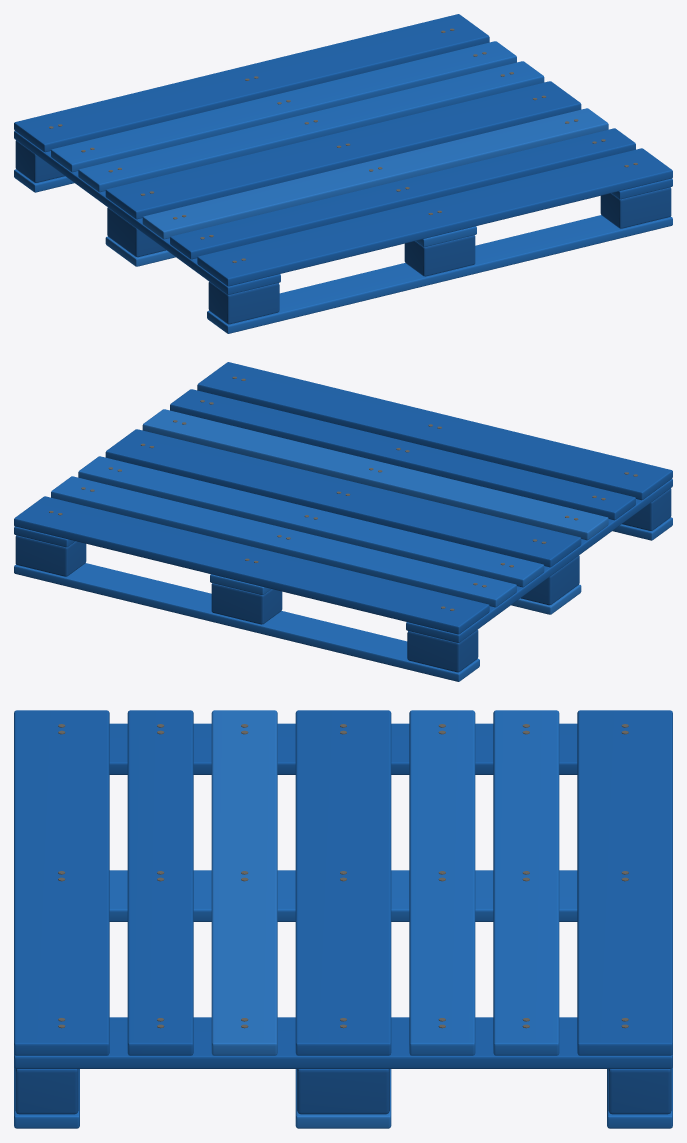
The model's file is pallet_bluewood.glb.
The picture shows the model from 3 angles, top to bottom: view 1: azimuth 30°, elevation 25°; view 2: azimuth 150°, elevation 25°; view 3: azimuth 270°, elevation 25°; orthographic projection. The views are drawn at different scales.
Visible parts, largest first — view 1: pallet_geo; view 2: pallet_geo; view 3: pallet_geo.
Boxes of the visible parts, box(x1,y1,x2,y2) form: pallet_geo: box(14, 14, 672, 333); pallet_geo: box(14, 362, 672, 681); pallet_geo: box(14, 710, 672, 1128).
Bounding box in the file's own units: 1.2 × 0.1452 × 1.
